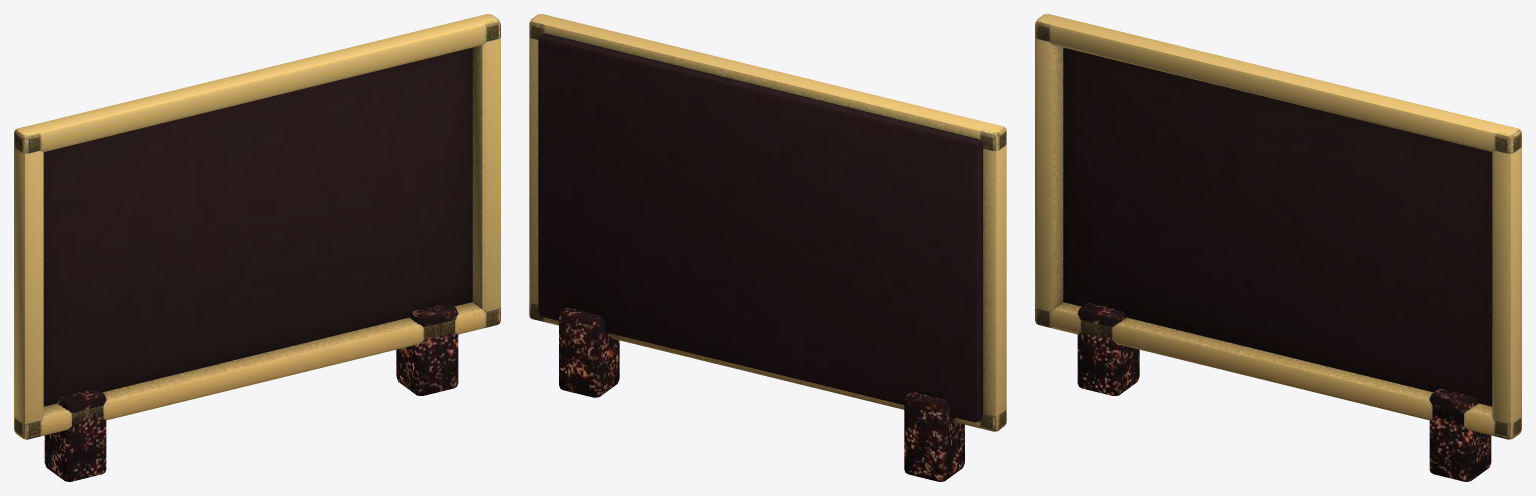
File: scout_fire.glb
The picture shows the model from 3 angles, left to right: view 1: azimuth 30°, elevation 25°; view 2: azimuth 150°, elevation 25°; view 3: azimuth 330°, elevation 25°; orthographic projection.
Parts seen in each view (by area): view 1: scout_fire; view 2: scout_fire; view 3: scout_fire.
Boxes of the visible parts, <box> form: scout_fire: <box>14,14,500,481</box>; scout_fire: <box>529,14,1006,481</box>; scout_fire: <box>1035,14,1521,481</box>.
Bounding box in the file's own units: 13.6 × 9.75 × 1.2.
1 material, 1 textured.
